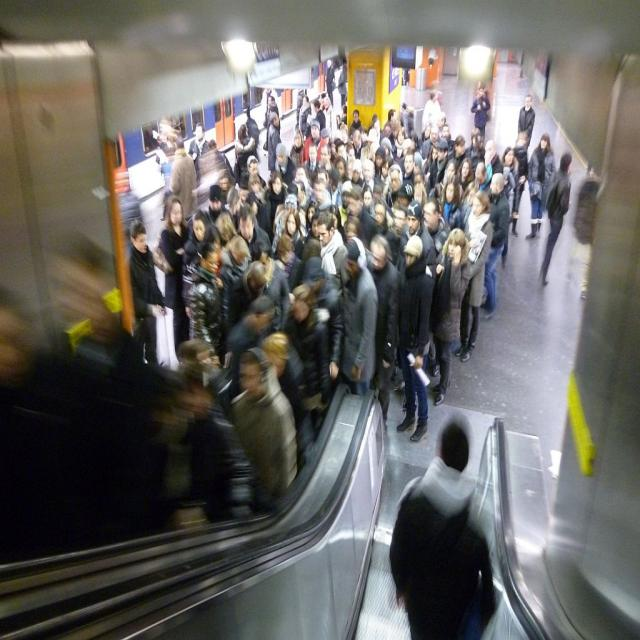body: (2, 251, 147, 553), (388, 419, 497, 639), (231, 345, 295, 515), (188, 358, 248, 522), (394, 232, 436, 446), (284, 282, 330, 469), (430, 224, 473, 408), (397, 197, 438, 378), (454, 184, 495, 363), (366, 232, 400, 433), (338, 237, 380, 397), (151, 196, 191, 354), (566, 156, 608, 304), (232, 346, 274, 488), (128, 218, 168, 366), (535, 150, 574, 288), (260, 330, 307, 435), (244, 236, 292, 336), (480, 170, 511, 321), (188, 242, 224, 364), (218, 232, 252, 339), (524, 132, 557, 242), (151, 116, 181, 222), (227, 259, 267, 329), (168, 135, 198, 222), (114, 169, 142, 260), (314, 212, 349, 278), (509, 130, 529, 238), (235, 206, 272, 262), (262, 172, 289, 247), (346, 187, 378, 250), (180, 212, 210, 278), (274, 194, 309, 250), (500, 146, 516, 258), (233, 122, 259, 189), (422, 198, 451, 258), (438, 173, 466, 232), (391, 205, 411, 277), (440, 174, 466, 229), (385, 162, 414, 210), (300, 116, 328, 164), (276, 236, 304, 283), (462, 127, 487, 178), (517, 93, 537, 156), (271, 142, 297, 189), (470, 84, 490, 142), (402, 105, 422, 161), (306, 178, 334, 216), (262, 95, 280, 153), (301, 144, 324, 189), (206, 183, 230, 226), (422, 121, 448, 160), (239, 155, 267, 191), (430, 138, 450, 188), (187, 120, 211, 161), (358, 158, 384, 194), (421, 90, 442, 134), (447, 135, 471, 173), (423, 140, 439, 197), (329, 202, 349, 246), (482, 136, 503, 177), (473, 160, 494, 201), (268, 113, 282, 174), (291, 165, 313, 202), (372, 200, 392, 240), (337, 180, 354, 227), (282, 210, 303, 248), (322, 96, 338, 145), (440, 156, 460, 194), (334, 141, 352, 181), (456, 158, 476, 192), (396, 178, 416, 210), (288, 129, 304, 169), (245, 107, 260, 149), (207, 138, 227, 167), (299, 95, 311, 143), (351, 128, 369, 160), (400, 150, 416, 185), (391, 127, 407, 161), (294, 180, 310, 213), (417, 120, 433, 152), (348, 110, 364, 142), (247, 172, 264, 202), (305, 200, 321, 231), (379, 153, 394, 186), (260, 81, 279, 107), (349, 159, 366, 188), (326, 59, 336, 108), (338, 63, 348, 111), (312, 96, 326, 130), (383, 108, 398, 139), (441, 123, 456, 153), (333, 156, 349, 184), (374, 147, 387, 180), (296, 85, 306, 127), (370, 118, 384, 148), (412, 182, 428, 207), (307, 213, 321, 241), (425, 44, 439, 72), (216, 171, 231, 196), (435, 110, 447, 138), (379, 135, 393, 158), (340, 104, 348, 126), (413, 163, 422, 180)
